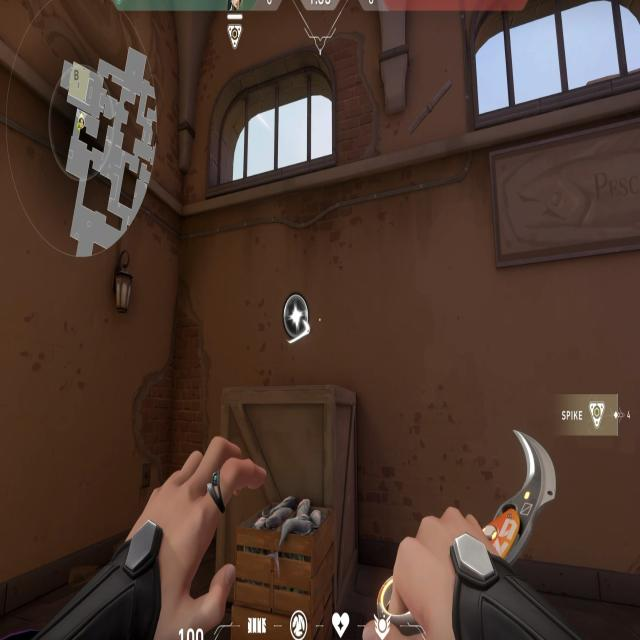B_Main_Wallbang: (186, 276, 324, 640)
